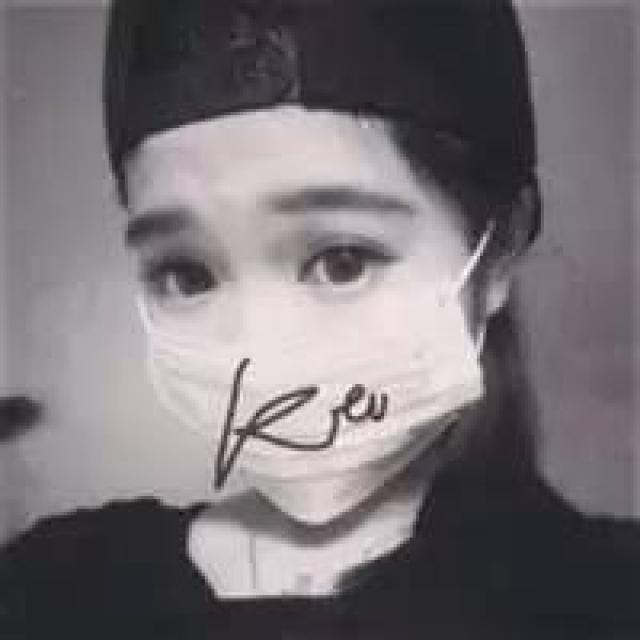mask: (131, 96, 451, 512)
